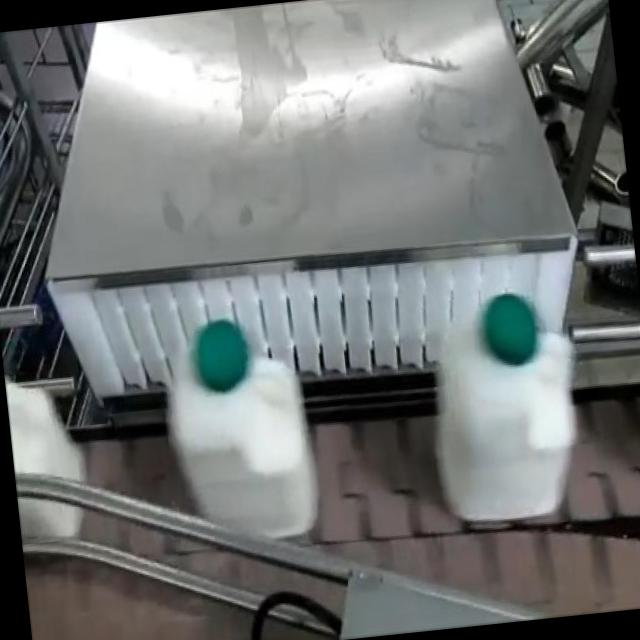milk: (138, 298, 334, 566), (412, 268, 595, 550)
